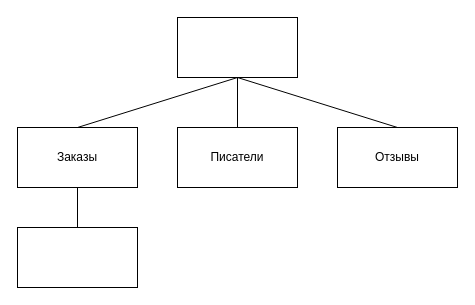
This 475x305 diagram has some shape labels left out. Here are the shapes that lost their labels. From the top down, the centre of each, then its label:
pixel 237 47: Книги
pixel 77 257: Заказчики
